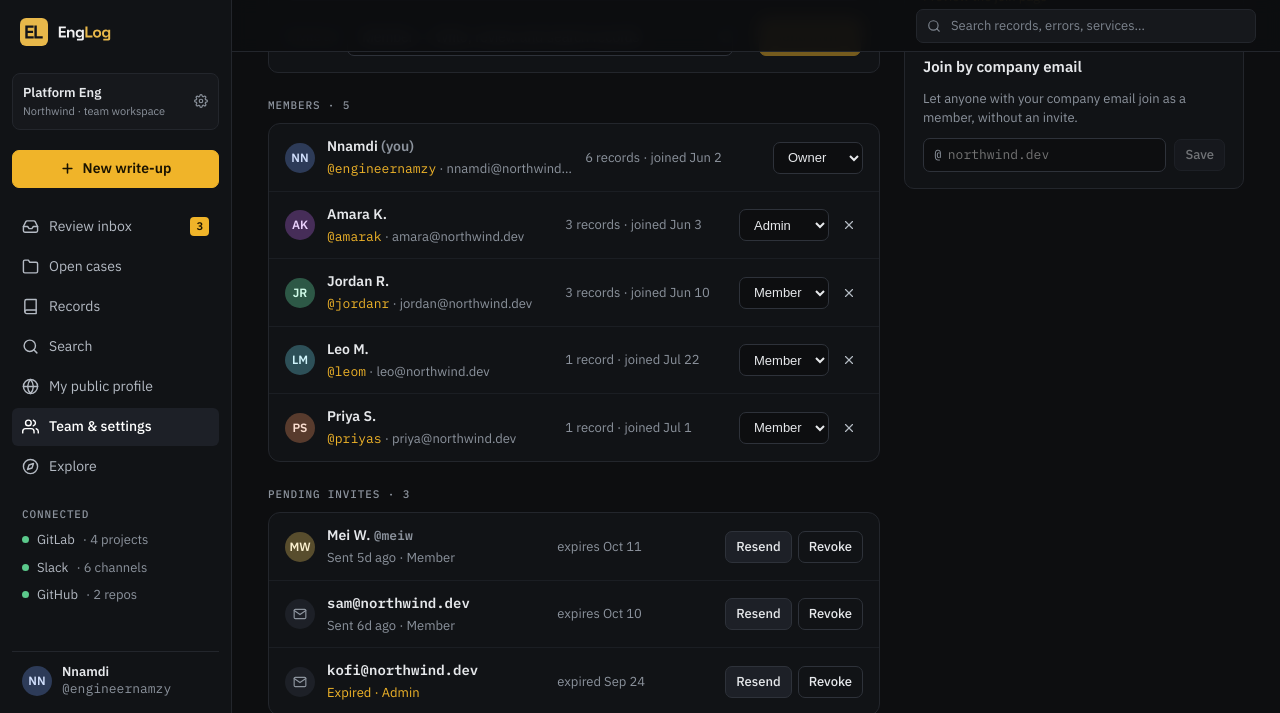
Scenario: workspace admin in the app › removes a member after confirming
(page scrolled)
Step 1. Click the button named "Remove Leo M." → (849, 360), box [835,346,863,374]
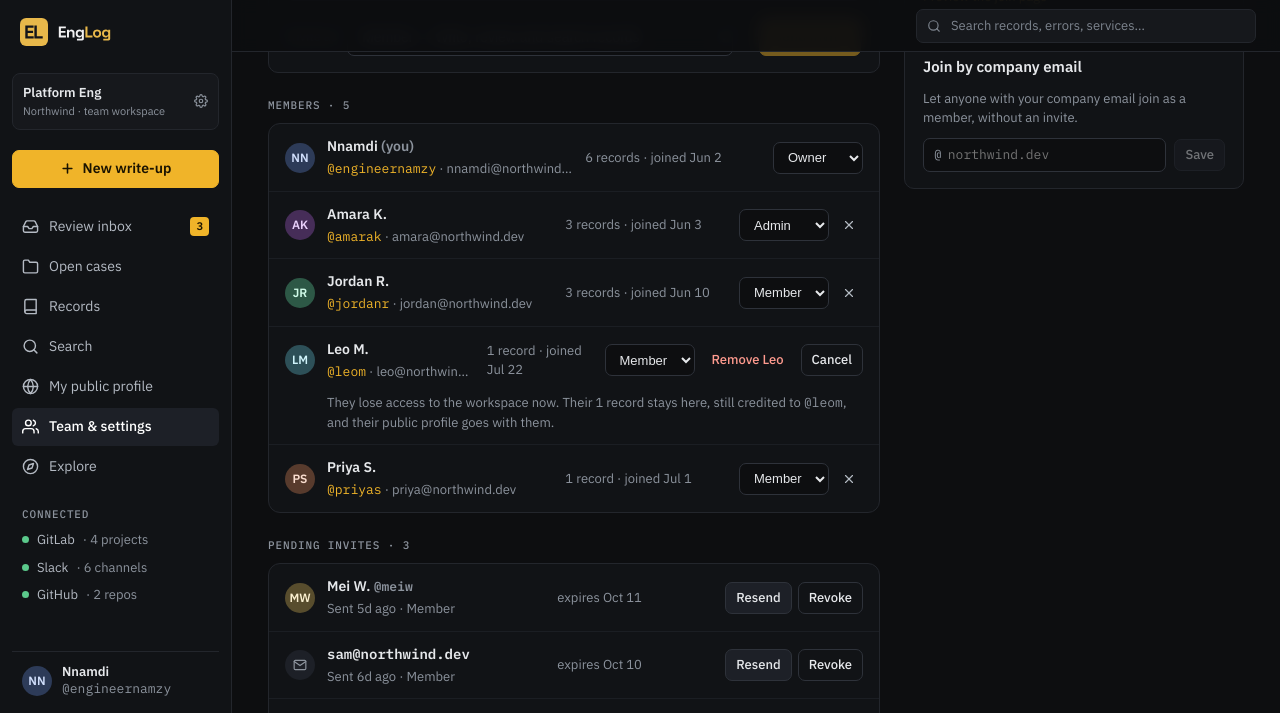
expect the text "Their 1 record stays here, still credited to" is shown: met, box [562,394,801,412]
Step 2. Click the button "Remove Leo" → (748, 360), box [700,344,795,376]
(page scrolled)
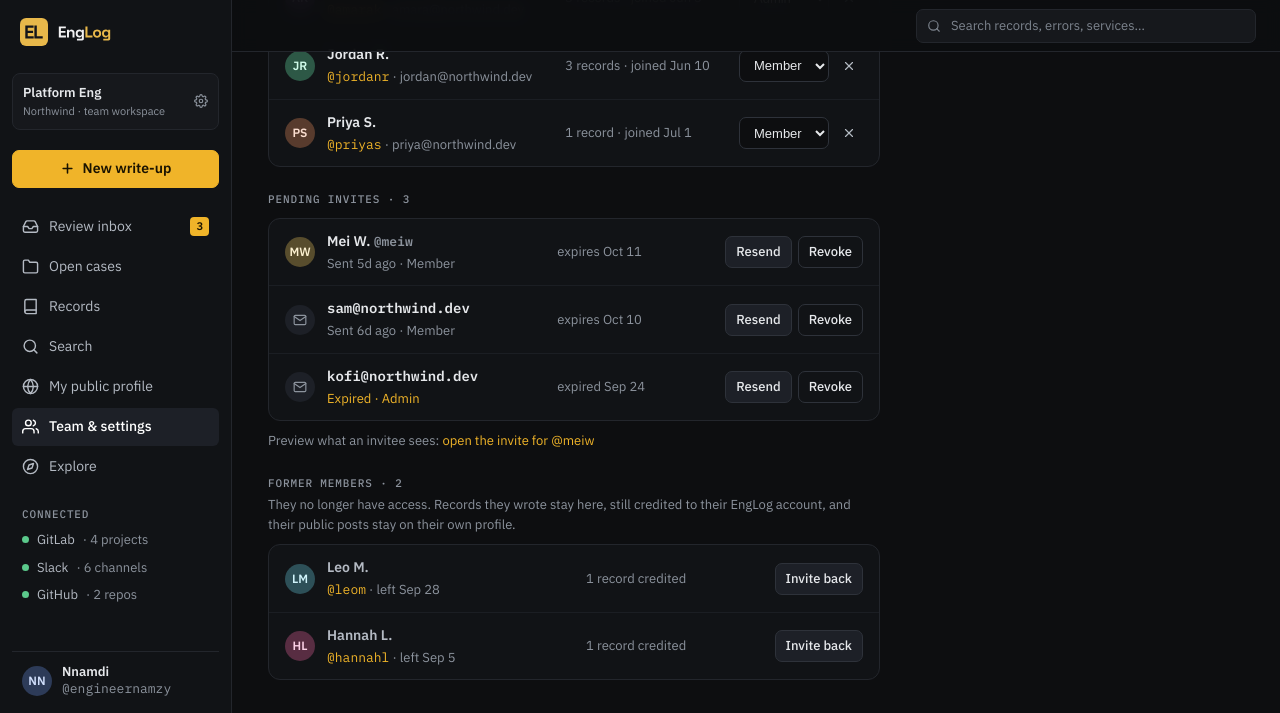
expect the text "Leo M." is shown: met, box [327,558,369,576]
expect the number of buttons "Invite back" is 2: met, box [774,563,863,595]; [774,630,863,662]
